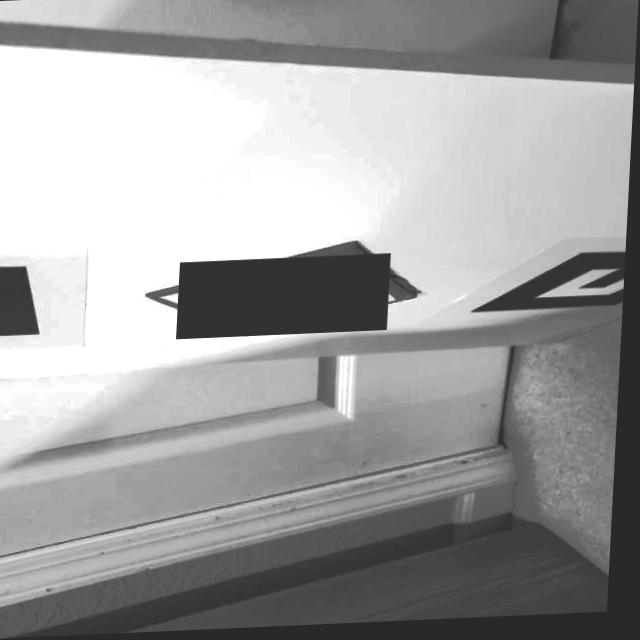qr_code: (180, 256, 394, 340)
